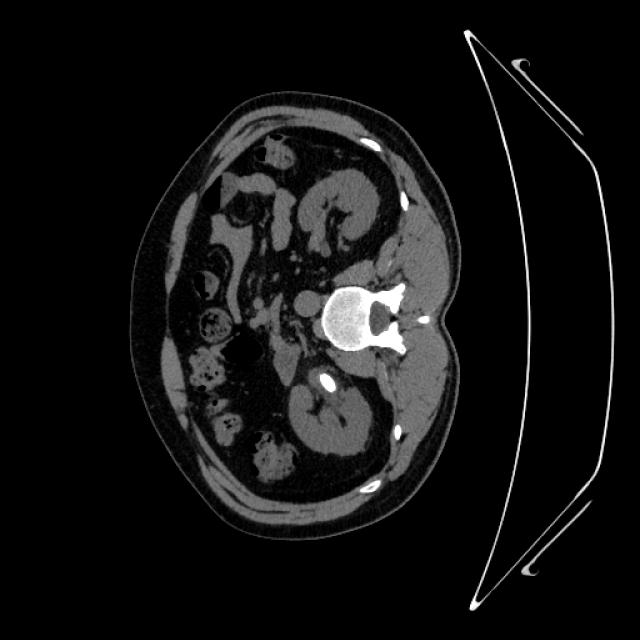kidneystone: (319, 371, 336, 392)
